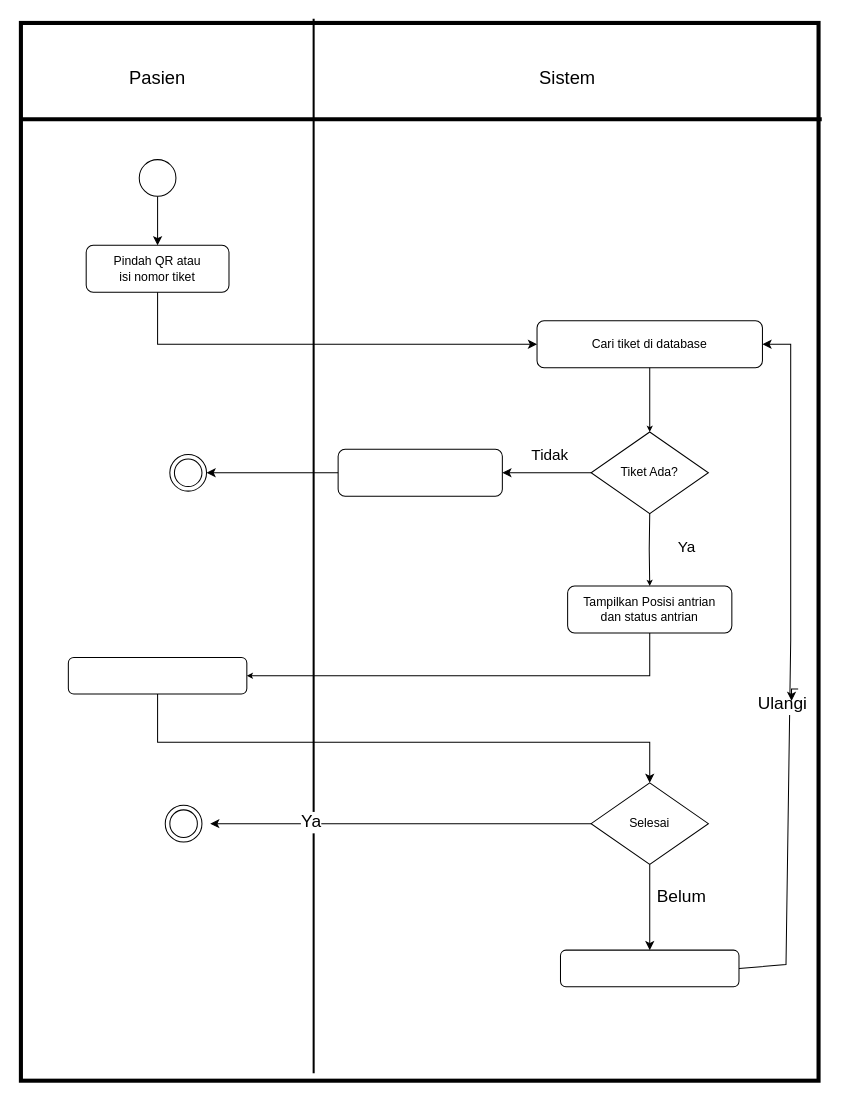
The diagram is 843 pixels wide and 1101 high, and some of its shapes have lost their labels. Each missing label, with the box of its shape:
Lihat status antrian: (67, 656, 247, 694)
Refresh otomatis setiap 5 detik: (559, 949, 739, 987)
Tampilkan Pesan tiket tidak ada: (337, 448, 502, 496)
